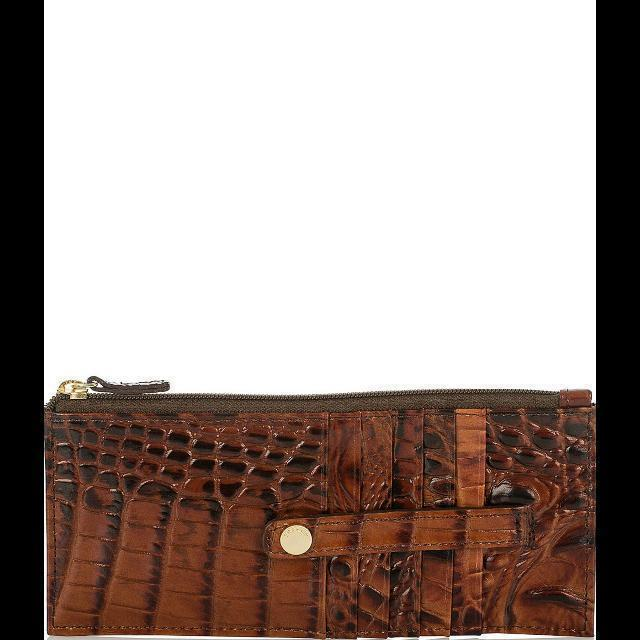wallet: (43, 385, 595, 639)
